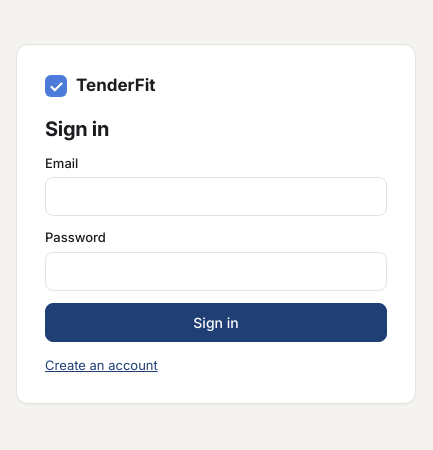
Scenario: sign-in › shows why a sign-in failed and stays on the form
In the field labelled "Email": [216, 196] box [45, 177, 387, 216], type "a@test.example"
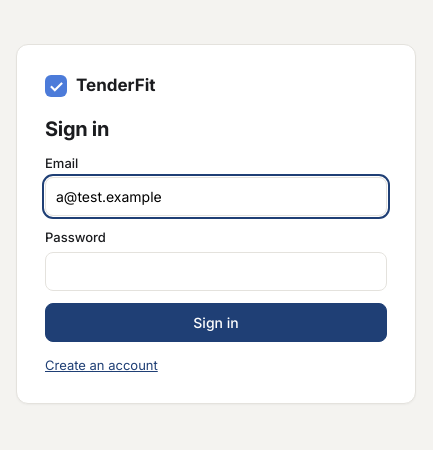
In the password field labelled "Password": [216, 271] box [45, 252, 387, 290], type "wrong-password"
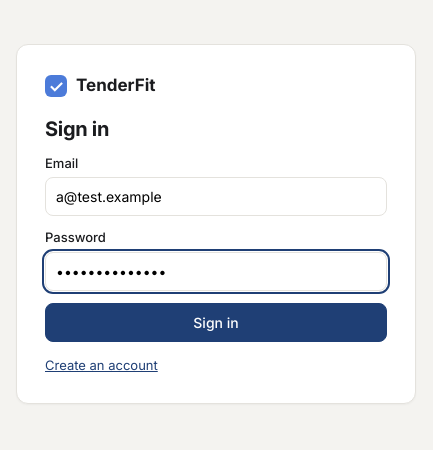
Click the button "Sign in": [216, 322] box [45, 302, 387, 342]
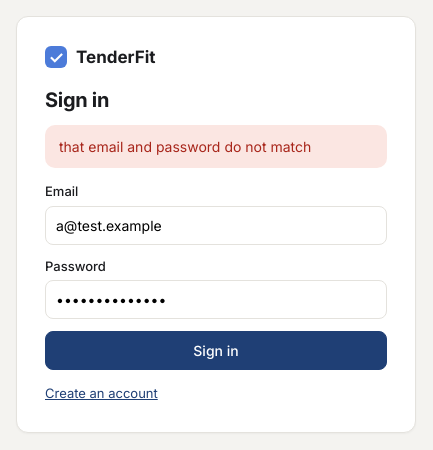
Now the message reads "that email and password do not match", box [59, 138, 311, 155]
